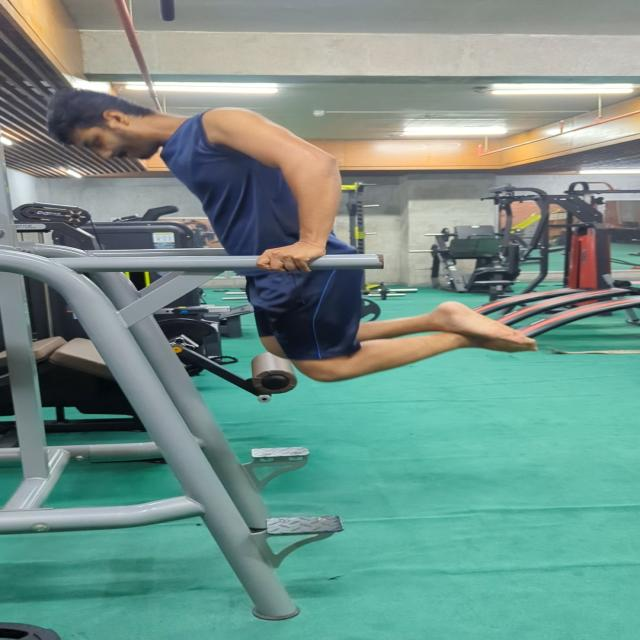Normal_Dips: (44, 84, 540, 388)
